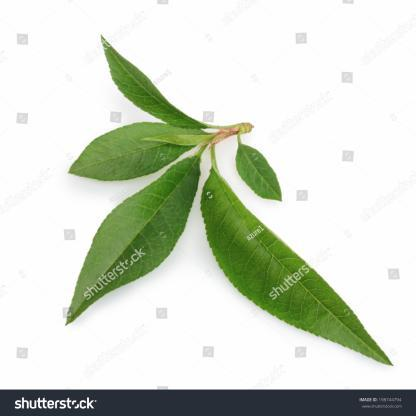Peach leaf: (200, 162, 392, 366), (61, 157, 200, 329), (96, 34, 213, 128), (60, 122, 202, 185), (236, 142, 286, 206)
